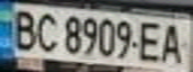0: (97, 16, 118, 58)
8: (60, 12, 81, 55)
9: (115, 17, 139, 61), (78, 14, 100, 56)
A: (157, 20, 190, 66)
B: (6, 6, 39, 52)
C: (30, 9, 60, 53)
E: (136, 19, 166, 64)
